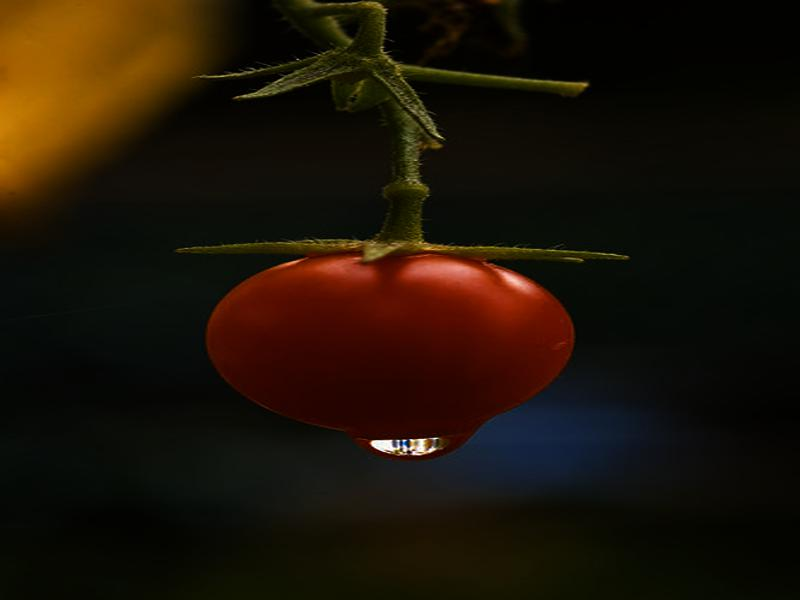Tomato: (207, 250, 578, 432)
